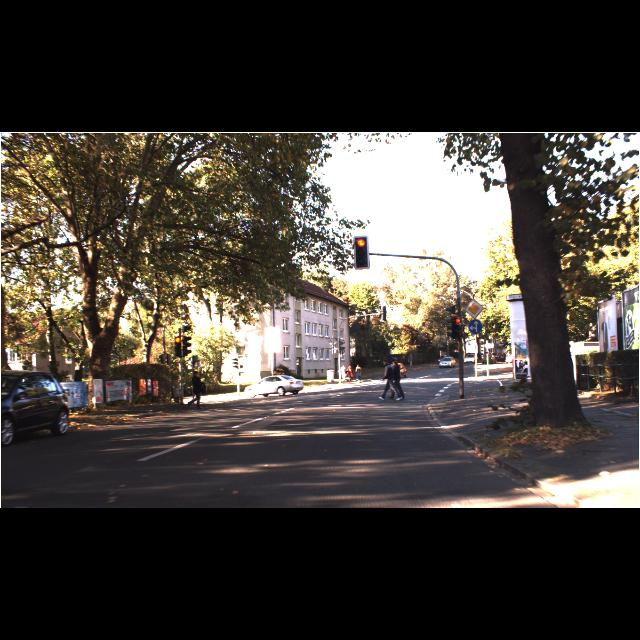mandatory: (468, 320, 482, 334)
other: (464, 299, 484, 319)
